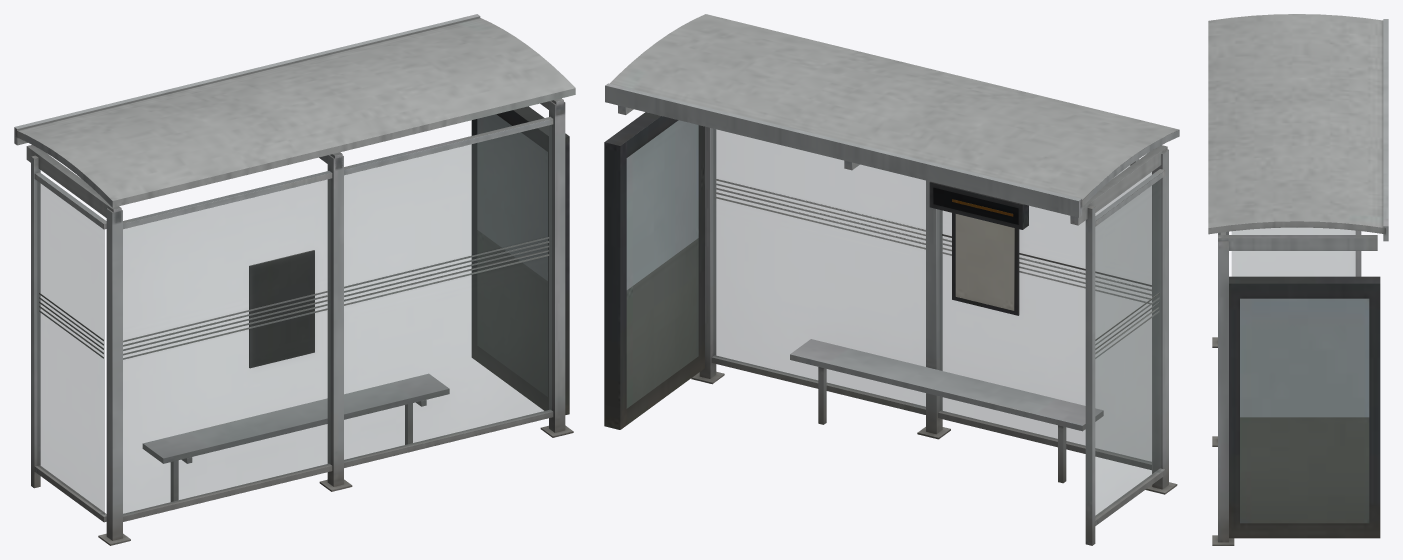
File: transitShelter-v2.glb
3 renders of one model, left to right at view 1: azimuth 30°, elevation 25°; view 2: azimuth 150°, elevation 25°; view 3: azimuth 270°, elevation 25°, orthographic. The views are drawn at different scales.
Visible parts, largest first — view 1: transitShelter; view 2: transitShelter; view 3: transitShelter.
Boxes of the visible parts, bbox=[...] form: transitShelter: bbox=[14, 14, 575, 545]; transitShelter: bbox=[604, 14, 1179, 545]; transitShelter: bbox=[1208, 14, 1388, 545].
Size of the model in its own units: 3.6 by 2.6 by 1.31.
3 materials, 3 textured.
